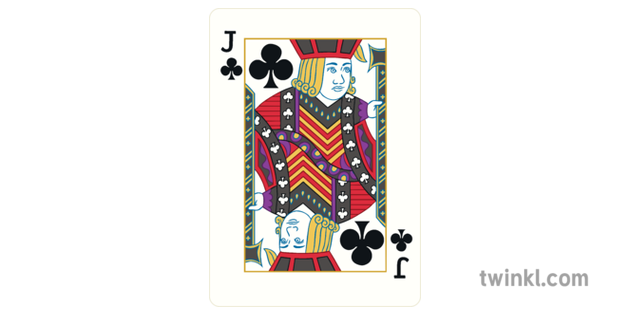jack of clubs: (211, 11, 419, 307)
